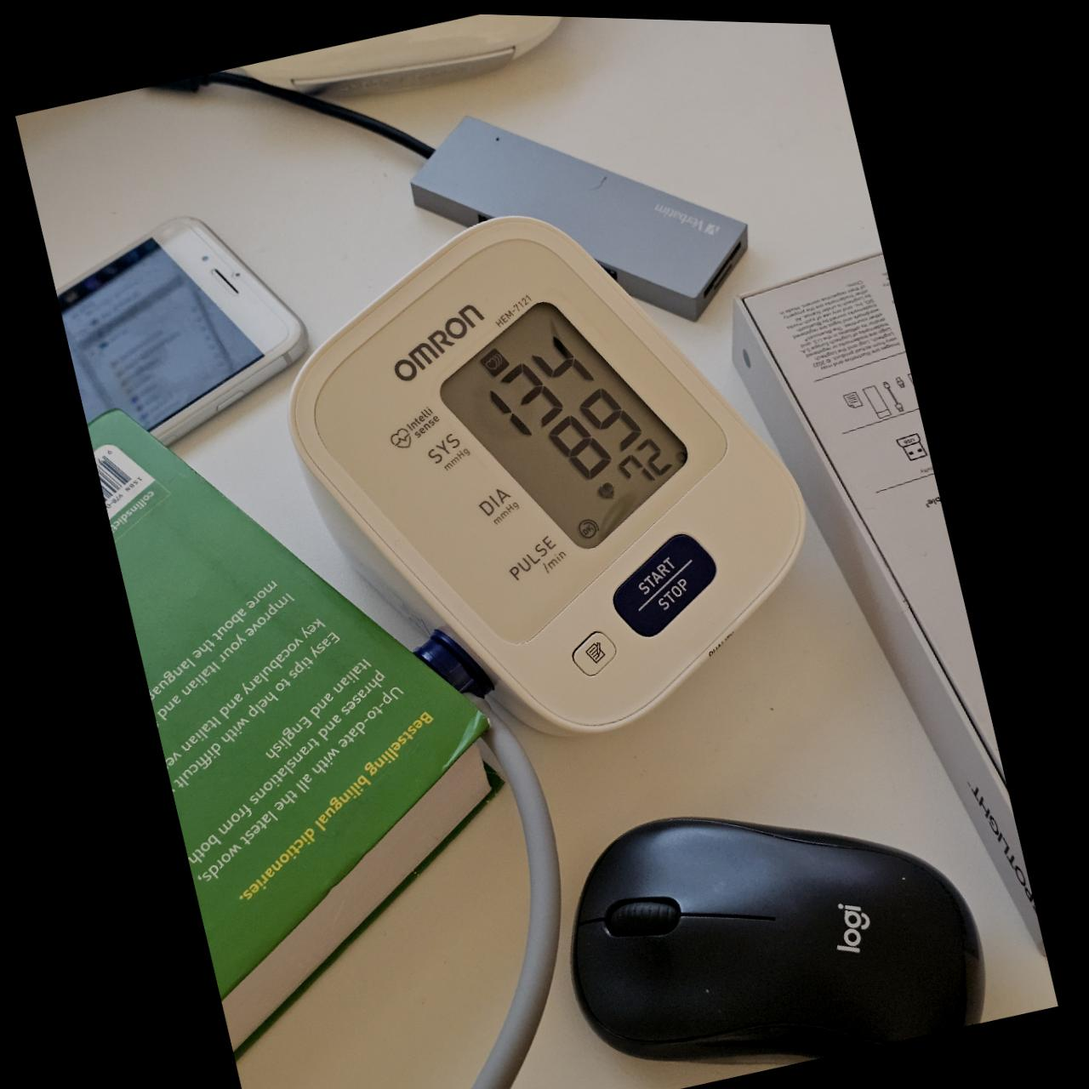lcd display: (418, 269, 712, 581)
